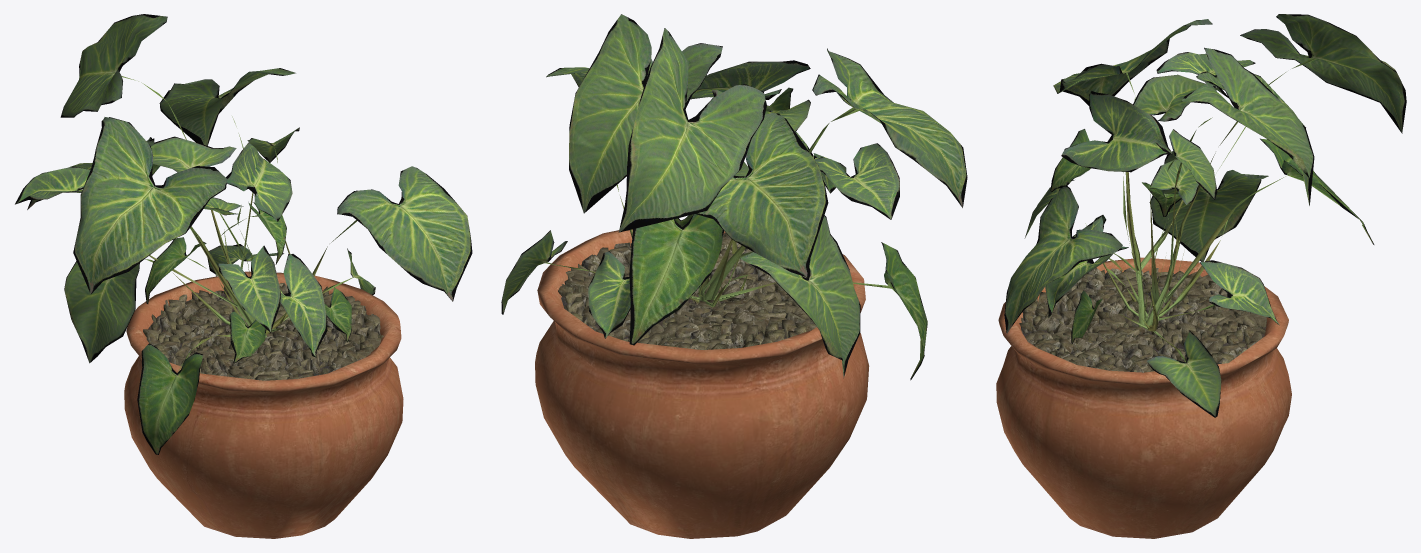
File: potted_plant_02.glb
The picture shows the model from 3 angles, left to right: view 1: azimuth 30°, elevation 25°; view 2: azimuth 150°, elevation 25°; view 3: azimuth 270°, elevation 25°; orthographic projection. The views are drawn at different scales.
Visible parts, largest first — view 1: potted_plant_02_leaves, potted_plant_02_pot; view 2: potted_plant_02_leaves, potted_plant_02_pot; view 3: potted_plant_02_pot, potted_plant_02_leaves.
Part boxes in pixels (<box>): potted_plant_02_leaves: <box>15,14,472,454</box>; potted_plant_02_pot: <box>124,271,403,538</box>; potted_plant_02_leaves: <box>501,14,967,380</box>; potted_plant_02_pot: <box>535,229,869,538</box>; potted_plant_02_pot: <box>996,257,1291,538</box>; potted_plant_02_leaves: <box>1004,14,1406,417</box>.
Bounding box in the file's own units: 0.7009 × 0.8401 × 0.6561.
2 materials, 2 textured.
